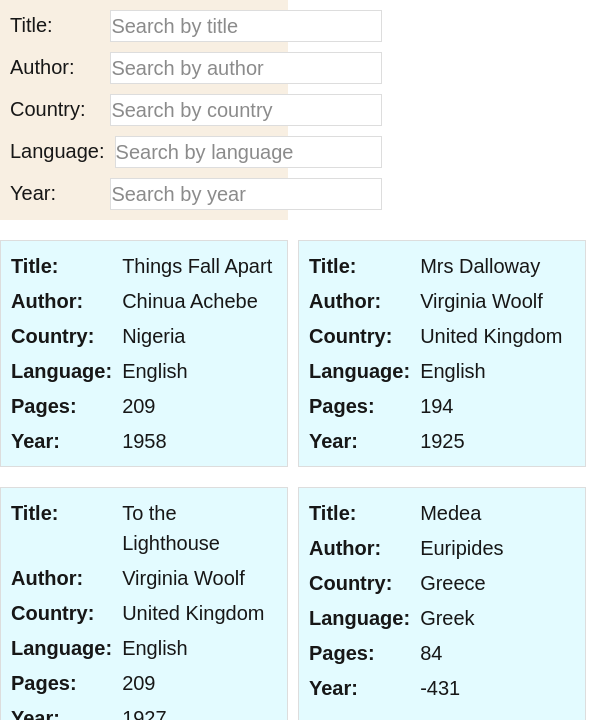
Test: BookSearch › searching by each field alone › modifying the country field › should filter books on the country get
Step 1. Type "ITALY" into the field with test id "country" → (246, 110), box 110,94 -> 382,126
(page scrolled)
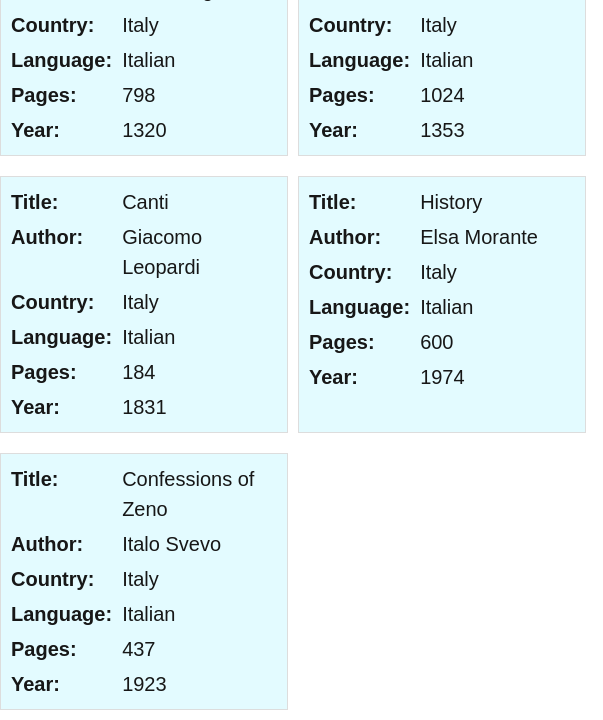
Result: the text "Giacomo Leopardi" is shown at 122,226 -> 202,278
Result: the text "Elsa Morante" is shown at 420,226 -> 538,248
Result: the text "Italo Svevo" is shown at 122,533 -> 221,555
